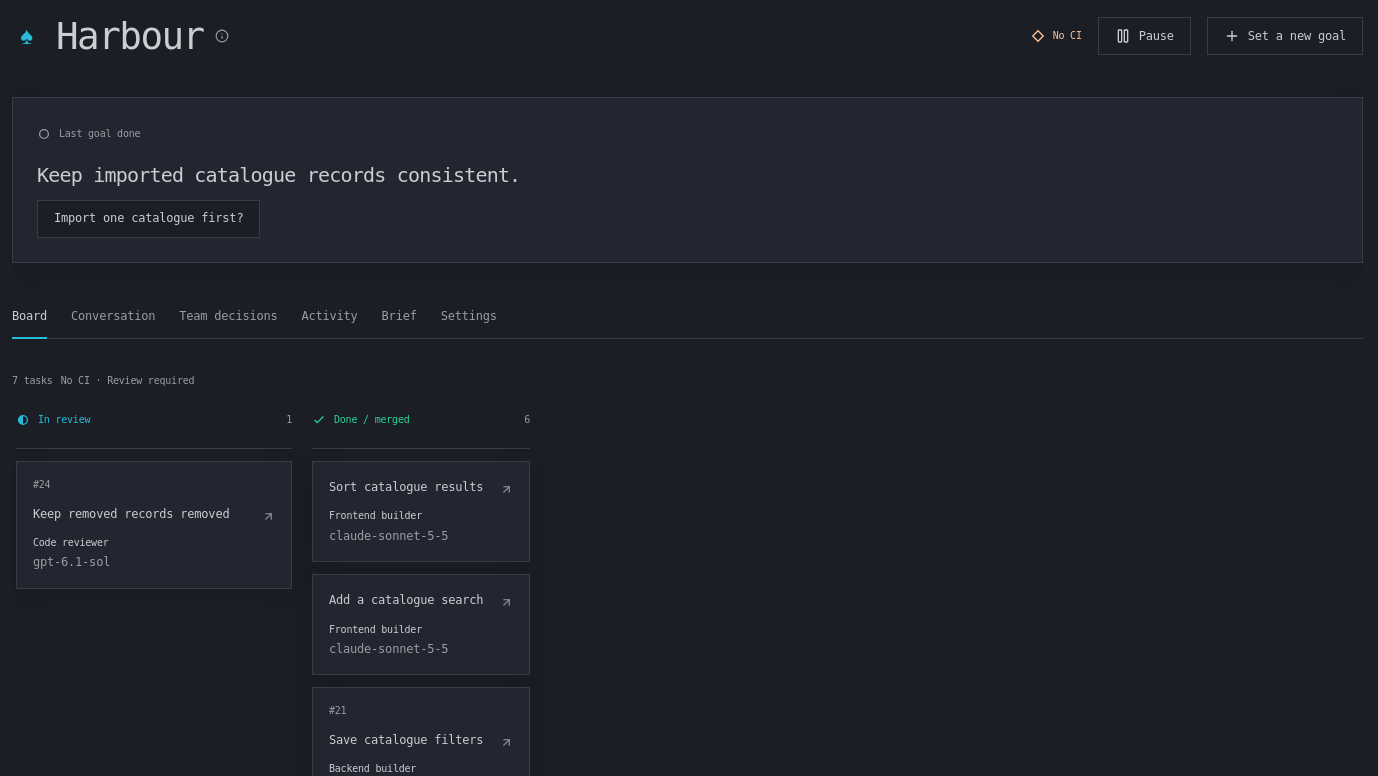
Scenario: goals › states a fresh goal after the latest goal completes and keeps the completed goal
Expected: the text "Last goal done" is shown, [59,127,140,141]
Click the button "Set a new goal": (1285, 36) [1207,17,1363,55]
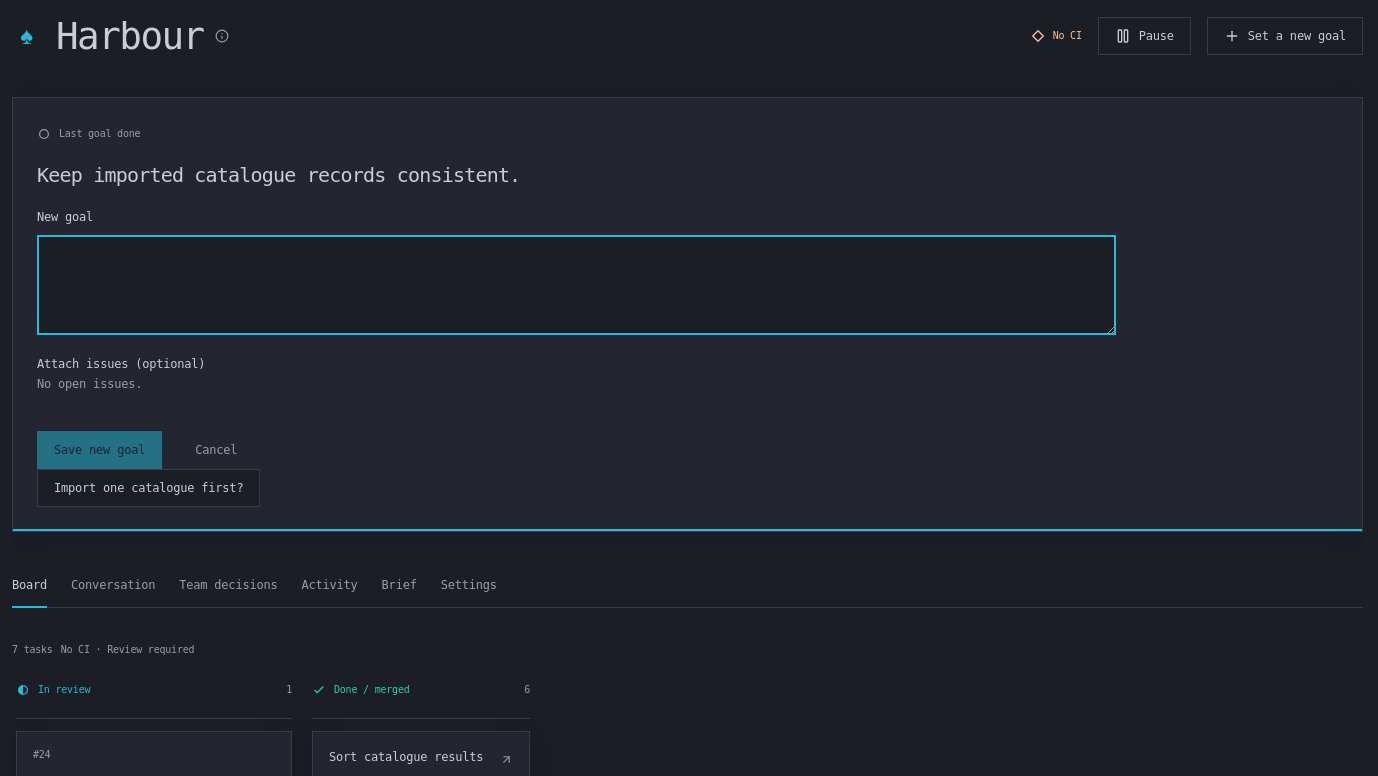
Result: the text box labelled "New goal" is empty
In the text box labelled "New goal": (576, 285) [37,235,1116,335], type "Ship the next release"
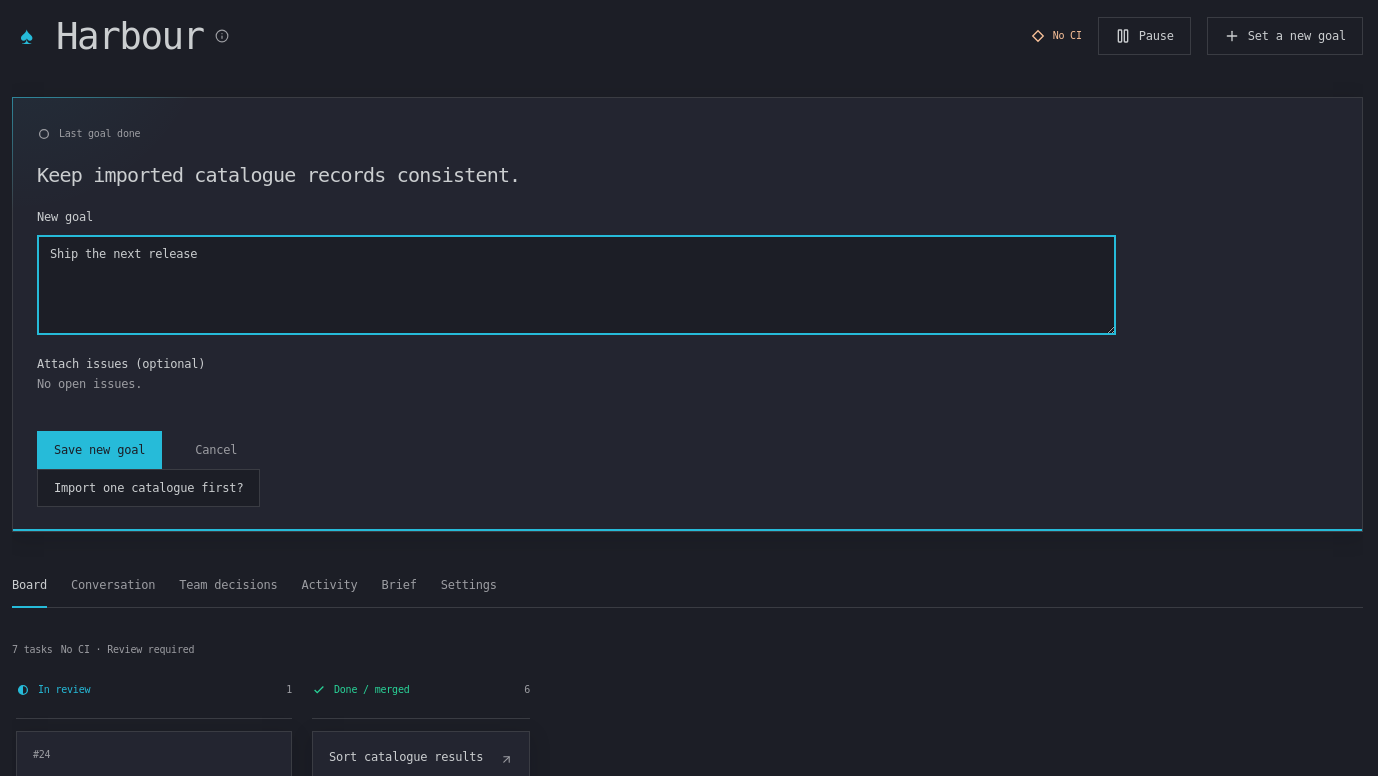
Click the button "Save new goal": (100, 450) [37,431,162,469]
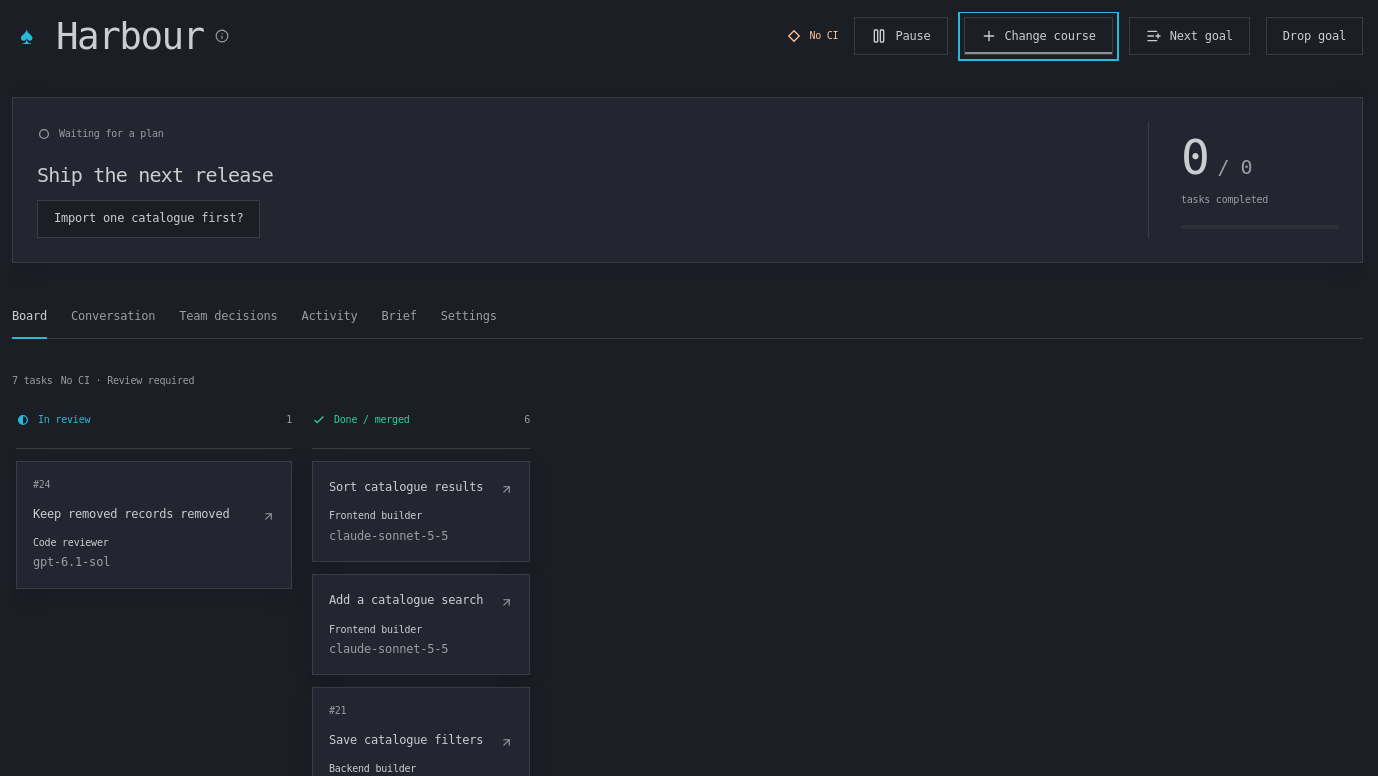
Result: the text "Waiting for a plan" is shown at [59,127,164,141]
